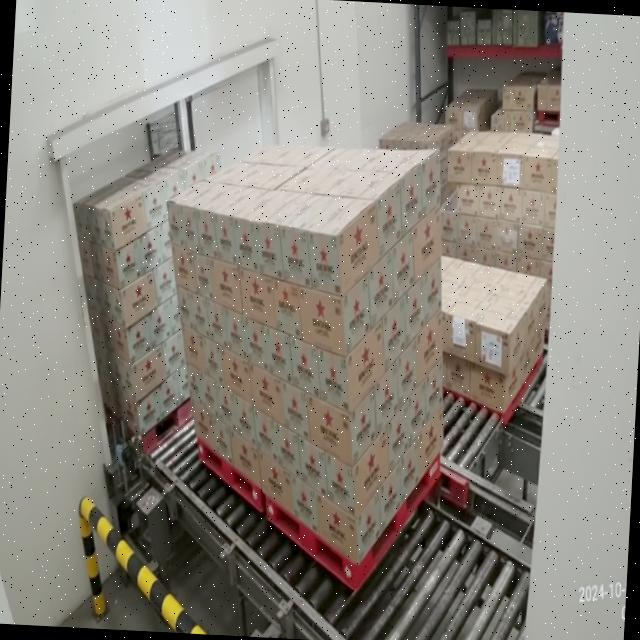pallet: (256, 138, 469, 610), (51, 126, 223, 463), (150, 134, 286, 528)
